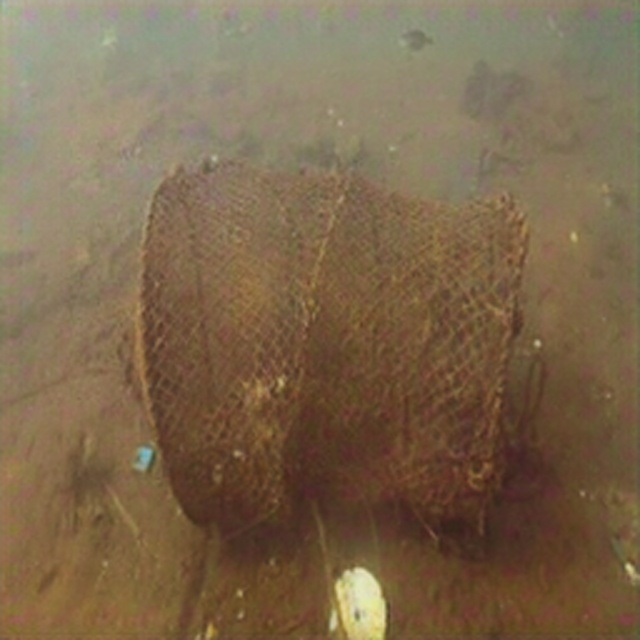mine: (135, 158, 528, 534)
